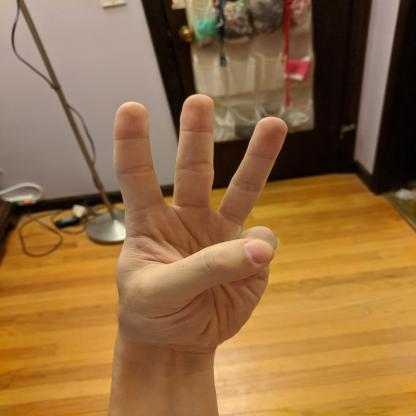W: (108, 90, 292, 348)
